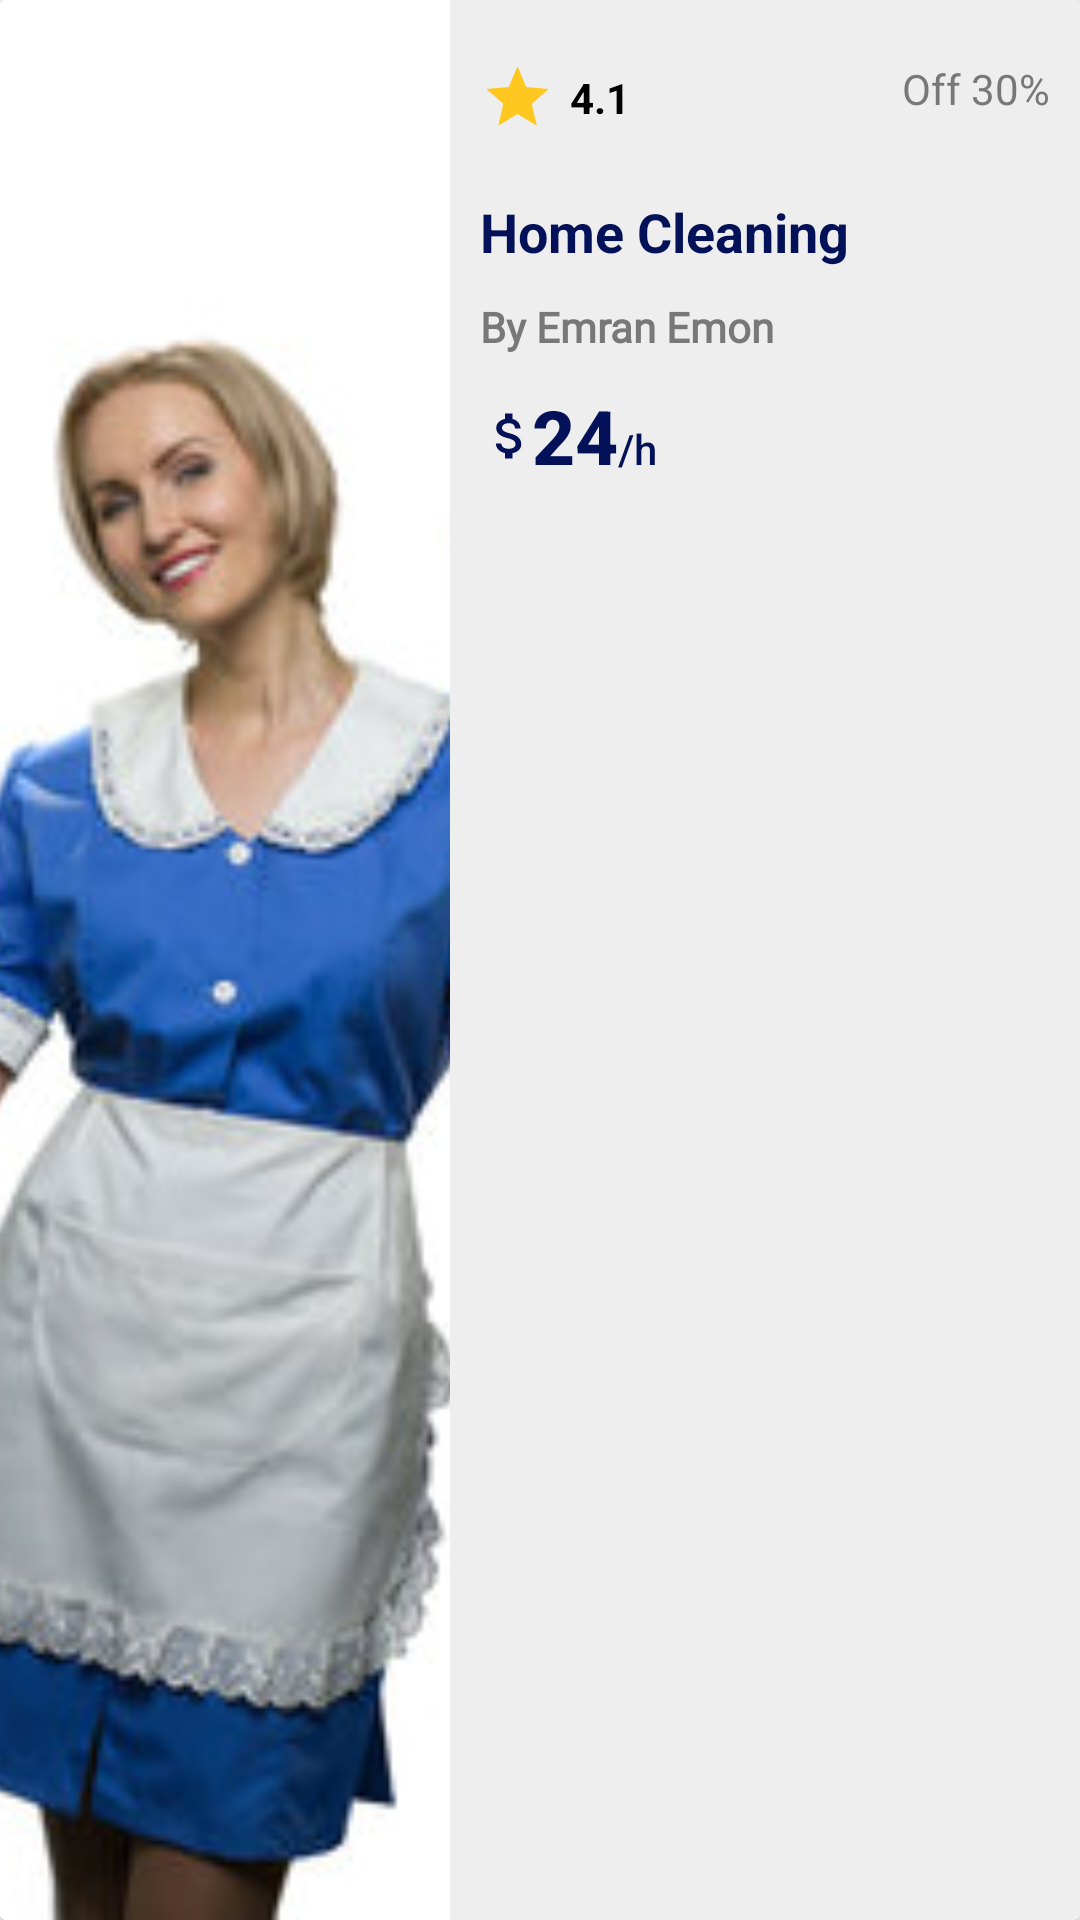

Screen size 1080px×1920px. Icon name, then its center in pixels as [x,y]:
star: [517,96]
